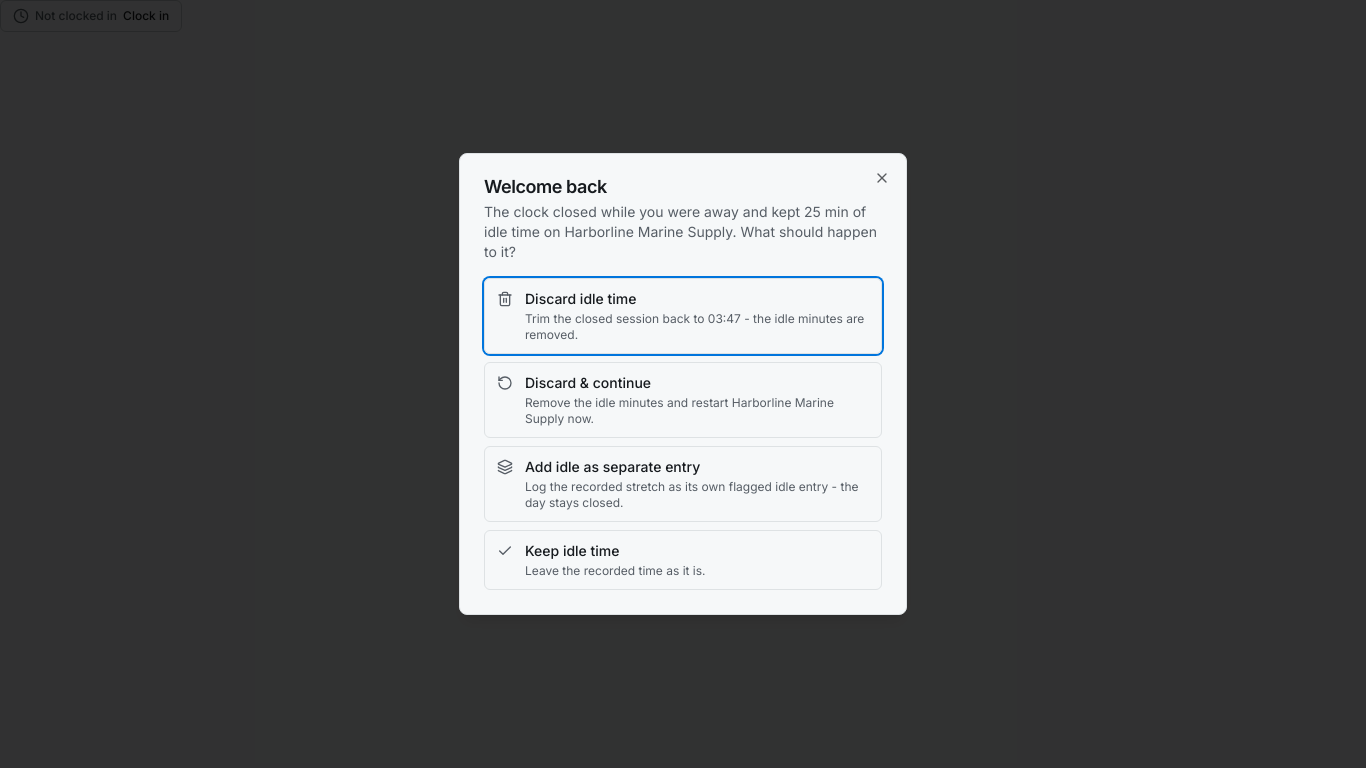
Test case: ClockWidget - Clock-C2 idle system › closed while away: the forgiveness dialog opens on load and discard & continue re-clocks
Expected: the text with test id "idle-forgiveness-desc" shows "the clock closed while you were away and kept 25 min of idle time on Harborline Marine Supply", x1=484 y1=203 x2=877 y2=260
What coordinates should you click on to do the following:
click the button with test id "idle-choice-discard-continue"
I would click on:
 (683, 400)
Its box is x1=484 y1=362 x2=882 y2=438.
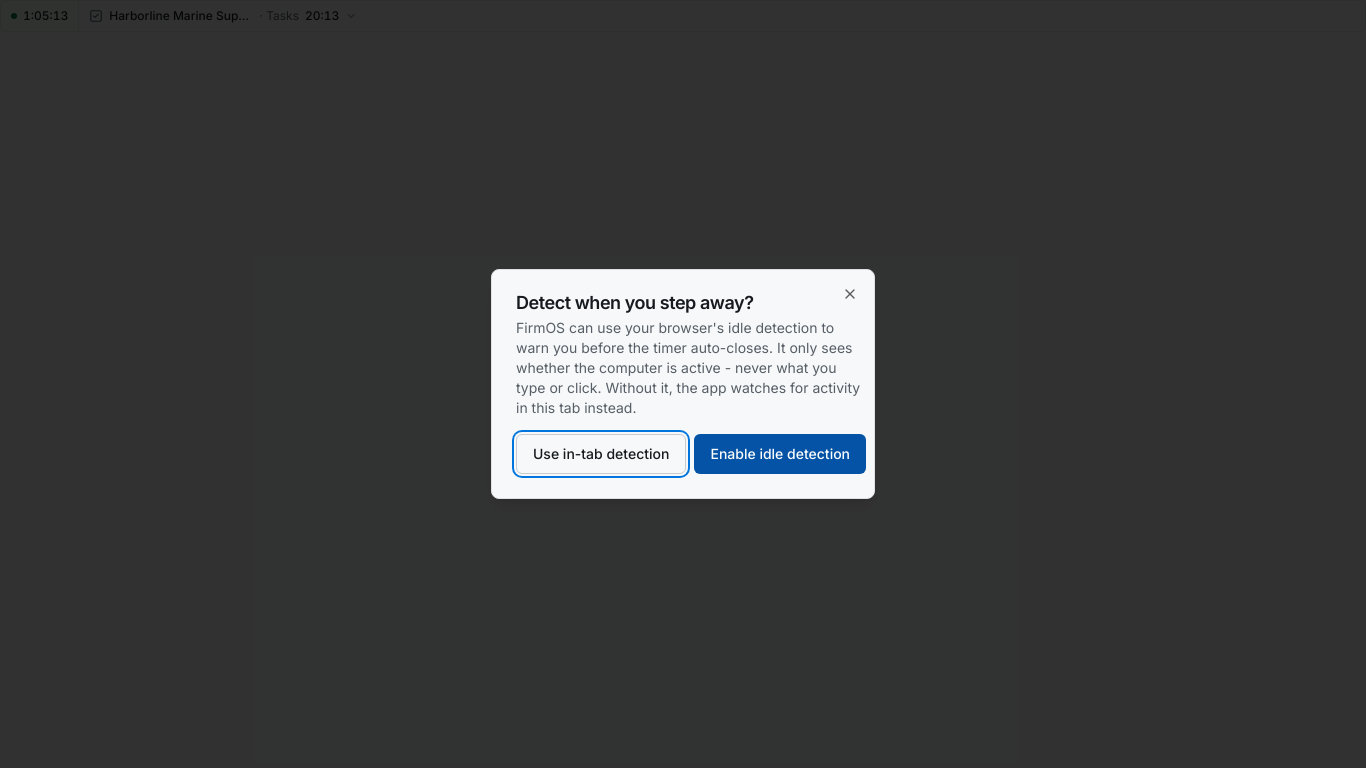
Now the dialog with test id "idle-forgiveness-dialog" is gone
